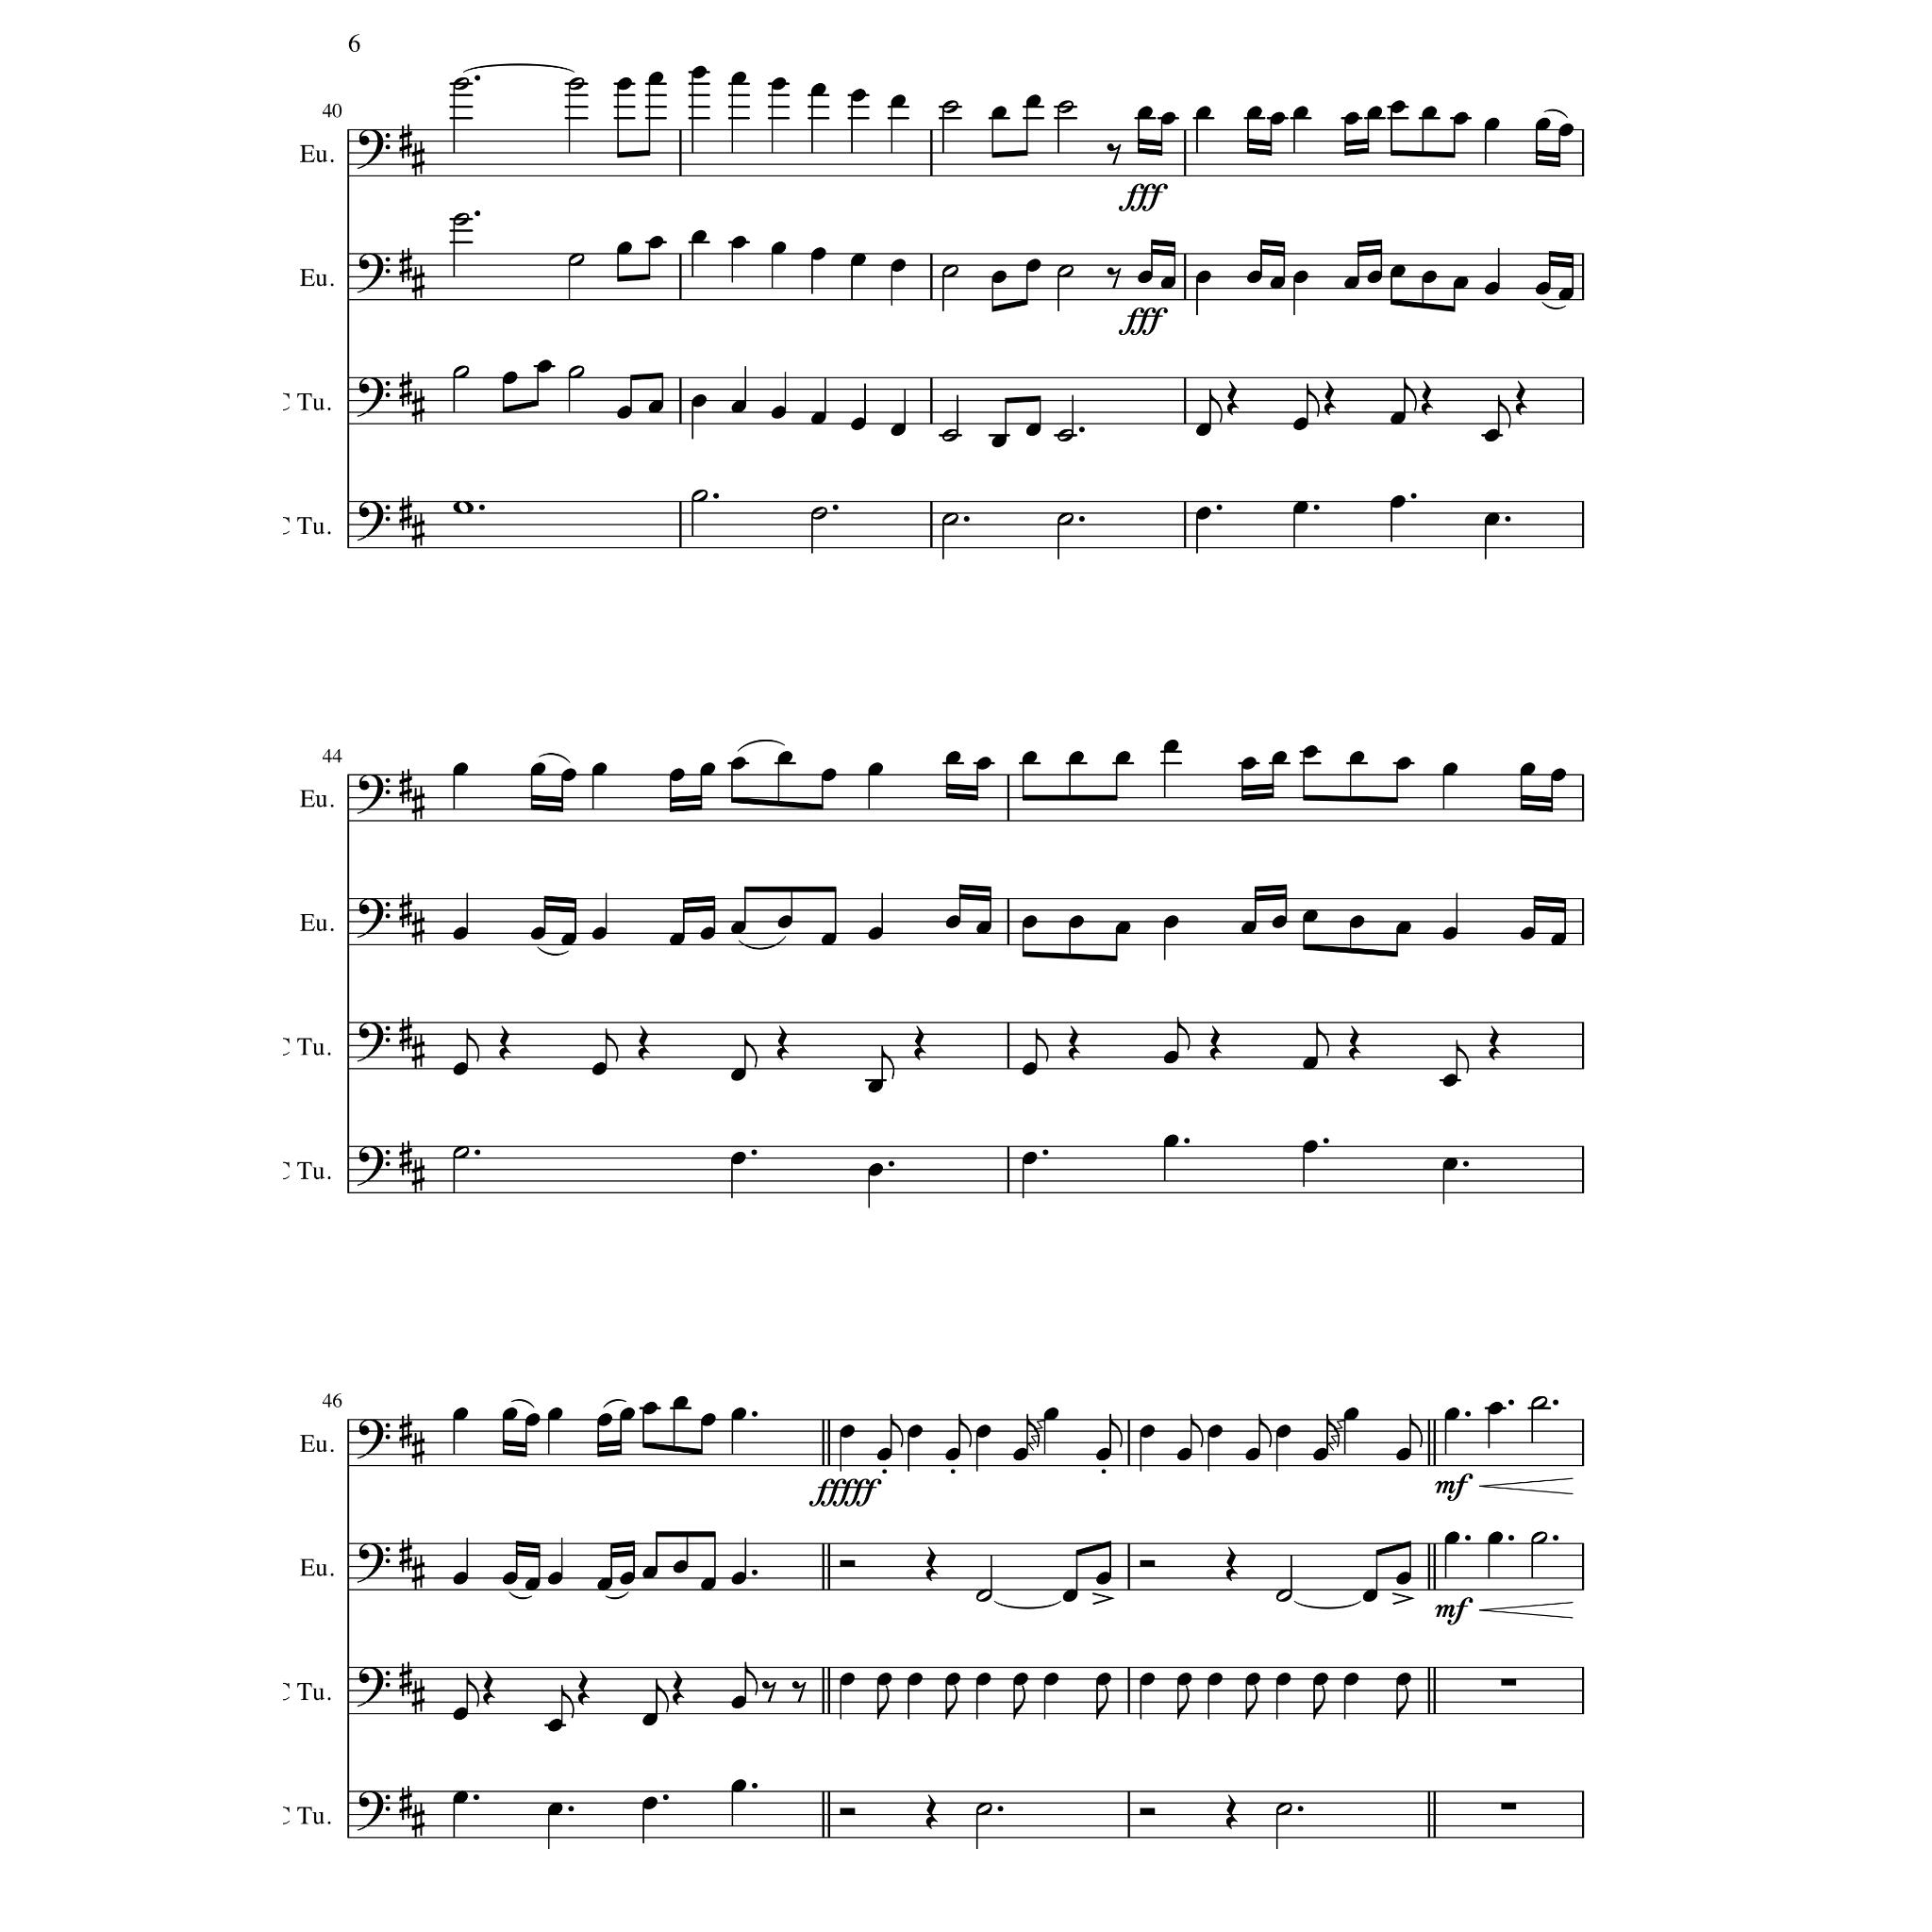fClef: (357, 128, 391, 170), (357, 253, 391, 294), (357, 1145, 391, 1187), (357, 774, 391, 815), (357, 1666, 391, 1707), (357, 1419, 391, 1460), (357, 1790, 391, 1832), (357, 377, 391, 417), (357, 502, 391, 541), (357, 898, 391, 938), (357, 1023, 391, 1062), (357, 1543, 391, 1583)
flag8thDown: (945, 1685, 958, 1719), (1245, 1685, 1258, 1719), (1013, 1685, 1026, 1719), (1096, 1685, 1109, 1719), (1313, 1685, 1326, 1719), (1396, 1685, 1409, 1719), (1177, 1685, 1189, 1719), (877, 1685, 889, 1719)
flag8thUp: (1307, 384, 1320, 418), (1209, 390, 1223, 424), (1498, 395, 1511, 429), (1404, 378, 1417, 412), (1177, 1017, 1191, 1051), (1036, 1028, 1049, 1062), (1316, 1023, 1329, 1057), (1456, 1041, 1469, 1074), (606, 1028, 619, 1062), (466, 1028, 479, 1062), (881, 1046, 894, 1080), (744, 1034, 758, 1068), (1191, 1414, 1204, 1448), (1258, 1414, 1272, 1448), (1026, 1414, 1040, 1448), (1109, 1414, 1123, 1448), (1326, 1414, 1340, 1448), (1409, 1414, 1423, 1448), (561, 1685, 575, 1719), (656, 1679, 669, 1713), (466, 1674, 479, 1707), (958, 1414, 972, 1448), (891, 1414, 904, 1448), (744, 1662, 758, 1696)
noteheadBlack: (1534, 117, 1551, 132), (1389, 494, 1406, 509), (1483, 117, 1500, 132), (1343, 275, 1360, 291), (991, 434, 1008, 449), (1519, 926, 1536, 941), (1441, 926, 1458, 941), (591, 926, 608, 941), (560, 768, 577, 783), (668, 768, 685, 783), (1175, 1447, 1192, 1462), (1094, 1447, 1111, 1462), (875, 1447, 892, 1462), (1270, 275, 1285, 291), (1160, 275, 1175, 291), (1558, 287, 1574, 302), (1453, 275, 1468, 291), (1551, 768, 1566, 783), (700, 926, 715, 941), (530, 926, 545, 941), (453, 926, 468, 941), (868, 926, 883, 941), (821, 768, 836, 783), (1245, 1447, 1260, 1462), (1013, 1447, 1028, 1462), (1313, 1447, 1328, 1462), (1396, 1447, 1411, 1462), (945, 1447, 960, 1462), (1245, 107, 1262, 120), (1245, 271, 1262, 284), (1343, 112, 1360, 125), (1292, 107, 1309, 120), (1292, 271, 1309, 284), (1292, 417, 1309, 430), (1292, 501, 1309, 514), (1194, 424, 1211, 437), (1194, 507, 1211, 520), (1194, 271, 1211, 284), (1194, 107, 1211, 120), (1534, 282, 1551, 295), (1389, 100, 1406, 113), (1389, 265, 1406, 278), (1389, 412, 1406, 425), (1366, 107, 1383, 120), (1366, 271, 1383, 284), (1483, 282, 1500, 295), (1483, 429, 1500, 442), (1483, 513, 1500, 526), (1421, 107, 1438, 120), (1421, 271, 1438, 284), (647, 236, 664, 249), (647, 400, 664, 413), (647, 72, 664, 85), (691, 66, 708, 79), (691, 230, 708, 243), (691, 394, 708, 408), (730, 72, 747, 85), (730, 236, 747, 249), (730, 400, 747, 413), (536, 359, 553, 373), (1024, 95, 1041, 108), (991, 107, 1008, 120), (991, 271, 1008, 284), (809, 83, 826, 96), (809, 247, 826, 260), (809, 412, 826, 425), (770, 77, 787, 91), (770, 241, 787, 255), (770, 406, 787, 419), (849, 89, 866, 102), (849, 254, 866, 267), (849, 417, 866, 430), (1024, 424, 1041, 437), (1024, 258, 1041, 272), (1162, 1051, 1179, 1064), (1162, 1135, 1179, 1148), (1302, 1141, 1319, 1154), (1302, 1057, 1319, 1070), (1302, 909, 1319, 923), (1302, 745, 1319, 758), (1162, 740, 1179, 753), (1162, 915, 1179, 928), (1068, 915, 1085, 928), (1068, 751, 1085, 764), (1519, 762, 1536, 775), (1441, 1158, 1458, 1171), (1441, 1074, 1458, 1087), (1441, 762, 1458, 775), (591, 762, 608, 775), (591, 1062, 608, 1075), (560, 933, 577, 946), (668, 933, 685, 946), (1021, 1062, 1038, 1075), (1021, 751, 1038, 764), (1021, 915, 1038, 928), (1021, 1152, 1038, 1165), (730, 757, 747, 770), (975, 921, 992, 934), (975, 757, 992, 770), (730, 921, 747, 934), (730, 1068, 747, 1081), (730, 1152, 747, 1165), (1175, 1673, 1192, 1686), (1094, 1572, 1111, 1585), (1094, 1673, 1111, 1686), (1487, 1402, 1504, 1415), (1487, 1531, 1504, 1544), (1443, 1407, 1460, 1421), (1443, 1531, 1460, 1544), (596, 1413, 613, 1426), (596, 1577, 613, 1591), (619, 1407, 636, 1421), (619, 1572, 636, 1585), (641, 1402, 658, 1415), (641, 1566, 658, 1579), (641, 1713, 658, 1726), (641, 1796, 658, 1809), (875, 1673, 892, 1686), (730, 1572, 747, 1585), (730, 1407, 747, 1421), (730, 1696, 747, 1709), (672, 1396, 689, 1409), (672, 1560, 689, 1574), (730, 1779, 747, 1792), (700, 1413, 717, 1426), (700, 1577, 717, 1591), (1270, 112, 1285, 125), (1138, 107, 1153, 120), (1138, 271, 1153, 284), (1160, 112, 1175, 125), (1558, 124, 1574, 137), (1453, 112, 1468, 125), (617, 77, 632, 91), (617, 241, 632, 255), (617, 406, 632, 419), (502, 372, 517, 385), (891, 95, 906, 108), (891, 258, 906, 272), (891, 424, 906, 437), (1241, 757, 1257, 770), (1241, 921, 1257, 934), (1272, 915, 1287, 928), (1272, 751, 1287, 764), (1115, 921, 1130, 934), (1115, 751, 1130, 764), (1551, 933, 1566, 946), (1396, 757, 1411, 770), (1396, 921, 1411, 934), (1349, 915, 1364, 928), (1349, 751, 1364, 764), (700, 762, 715, 775), (530, 762, 545, 775), (453, 1062, 468, 1075), (453, 762, 468, 775), (945, 751, 960, 764), (945, 915, 960, 928), (868, 1163, 883, 1176), (868, 1079, 883, 1092), (868, 762, 883, 775), (777, 915, 792, 928), (777, 751, 792, 764), (821, 933, 836, 946), (1245, 1673, 1260, 1686), (1275, 1424, 1291, 1438), (1207, 1424, 1223, 1438), (1207, 1673, 1223, 1686), (975, 1673, 991, 1686), (1043, 1407, 1058, 1421), (1043, 1673, 1058, 1686), (1013, 1673, 1028, 1686), (1140, 1424, 1155, 1438), (975, 1424, 991, 1438), (1140, 1673, 1155, 1686), (1062, 1589, 1077, 1602), (1343, 1407, 1358, 1421), (1313, 1673, 1328, 1686), (1343, 1673, 1358, 1686), (1362, 1589, 1377, 1602), (1396, 1572, 1411, 1585), (1396, 1673, 1411, 1686), (1275, 1673, 1291, 1686), (547, 1802, 562, 1815), (547, 1407, 562, 1421), (547, 1572, 562, 1585), (547, 1719, 562, 1732), (453, 1407, 468, 1421), (453, 1572, 468, 1585), (453, 1707, 468, 1721), (502, 1407, 517, 1421), (502, 1572, 517, 1585), (525, 1413, 540, 1426), (525, 1577, 540, 1591), (453, 1790, 468, 1804), (840, 1424, 855, 1438), (840, 1673, 855, 1686), (945, 1673, 960, 1686), (908, 1424, 923, 1438), (908, 1673, 923, 1686)
noteheadHalf: (1057, 100, 1074, 113), (1057, 265, 1074, 278), (1057, 429, 1074, 442), (1057, 513, 1074, 526), (691, 490, 708, 503), (452, 77, 469, 91), (452, 213, 469, 226), (452, 366, 469, 379), (568, 366, 585, 379), (568, 77, 585, 91), (568, 254, 585, 267), (941, 100, 958, 113), (941, 265, 958, 278), (941, 429, 958, 442), (941, 513, 958, 526), (810, 507, 827, 520), (452, 1146, 469, 1159), (1275, 1589, 1292, 1602), (975, 1802, 992, 1815), (975, 1589, 992, 1602), (1530, 1396, 1547, 1409), (1530, 1531, 1547, 1544), (1275, 1802, 1292, 1815)
noteheadWhole: (453, 501, 474, 514)
rest8th: (1107, 143, 1122, 166), (1107, 267, 1122, 290), (761, 1681, 776, 1704), (791, 1681, 807, 1704)
restHalf: (1140, 1559, 1155, 1567), (1140, 1807, 1155, 1815), (840, 1559, 855, 1567), (840, 1807, 855, 1815)
restQuarter: (1421, 380, 1434, 416), (638, 1025, 651, 1061), (498, 1025, 511, 1061), (913, 1025, 926, 1061), (1224, 1546, 1238, 1582), (1224, 1794, 1238, 1830), (672, 1670, 685, 1706), (1226, 380, 1238, 416), (1324, 380, 1336, 416), (1515, 380, 1526, 416), (1209, 1025, 1221, 1061), (1068, 1025, 1079, 1061), (1349, 1025, 1360, 1061), (1489, 1025, 1500, 1061), (777, 1025, 789, 1061), (577, 1670, 589, 1706), (483, 1670, 494, 1706), (926, 1546, 938, 1582), (926, 1794, 938, 1830)
restWhole: (1500, 1678, 1517, 1686), (1500, 1803, 1517, 1810)
